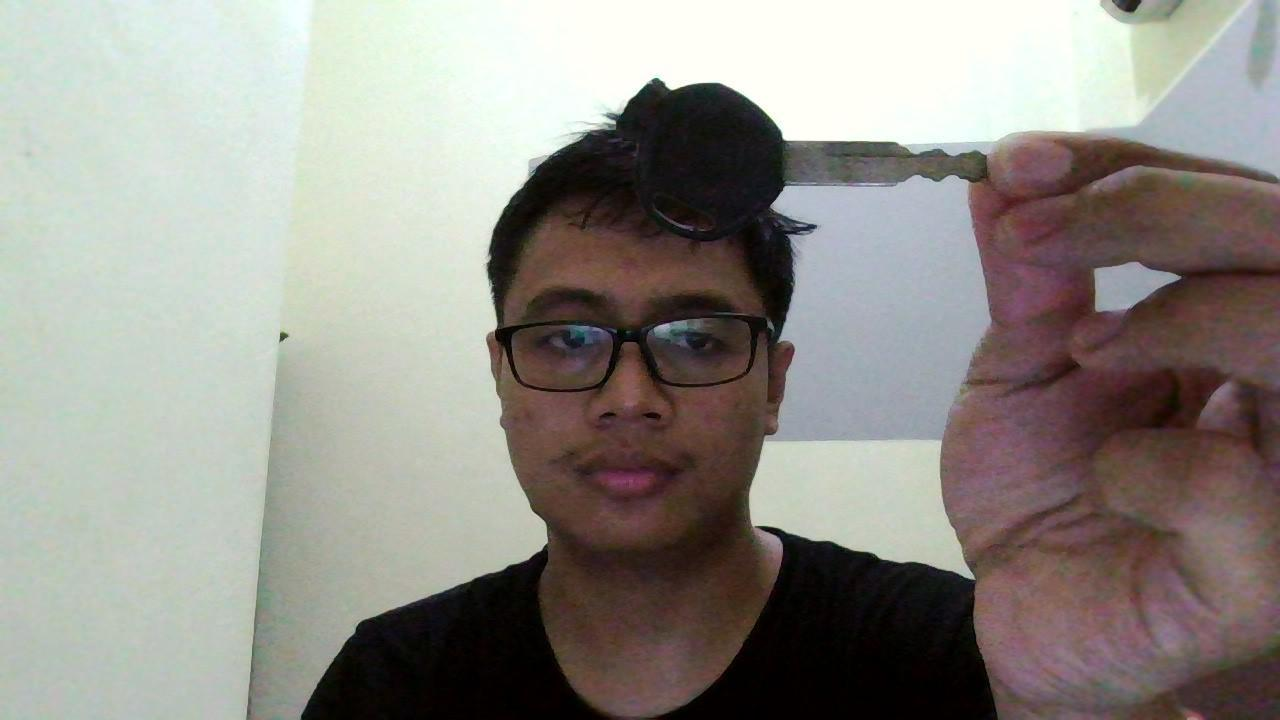keys: (618, 73, 993, 239)
